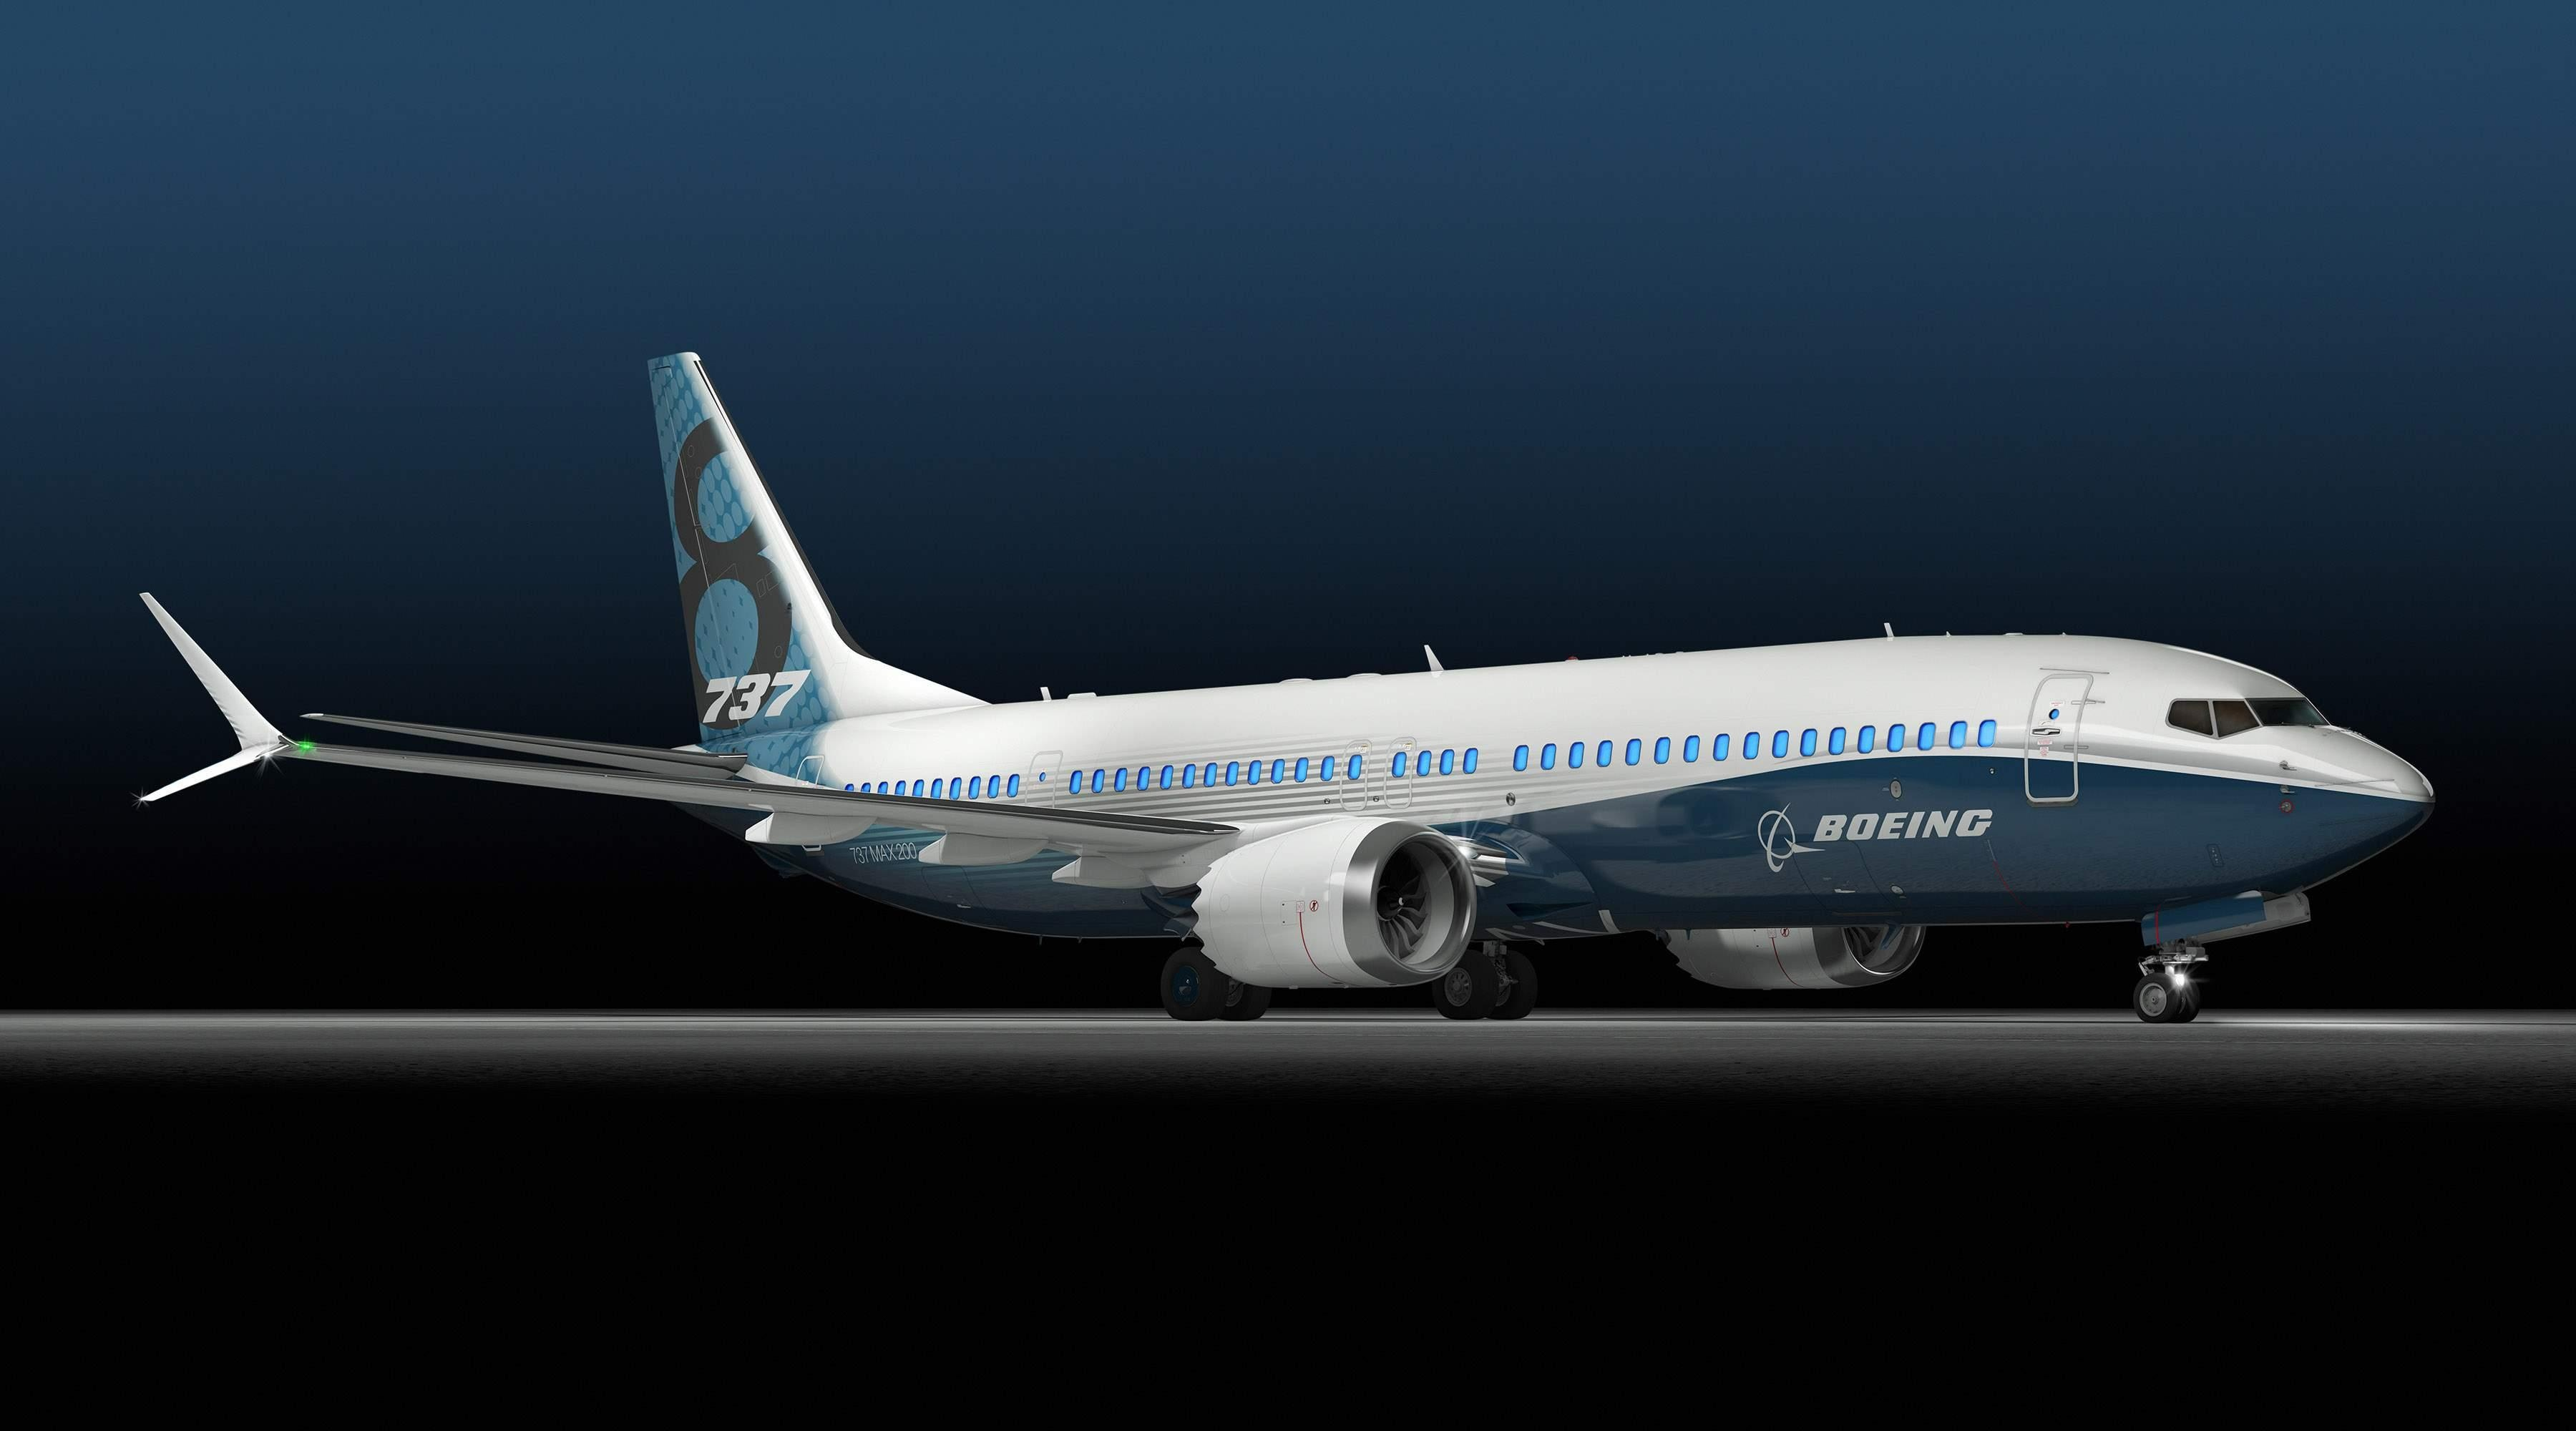airplane: (130, 328, 2417, 1040)
